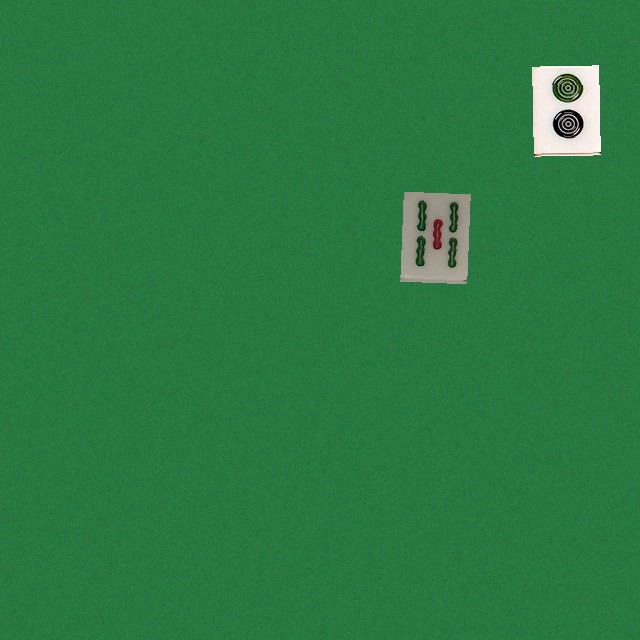tile: (400, 191, 467, 281), (532, 65, 599, 155)
